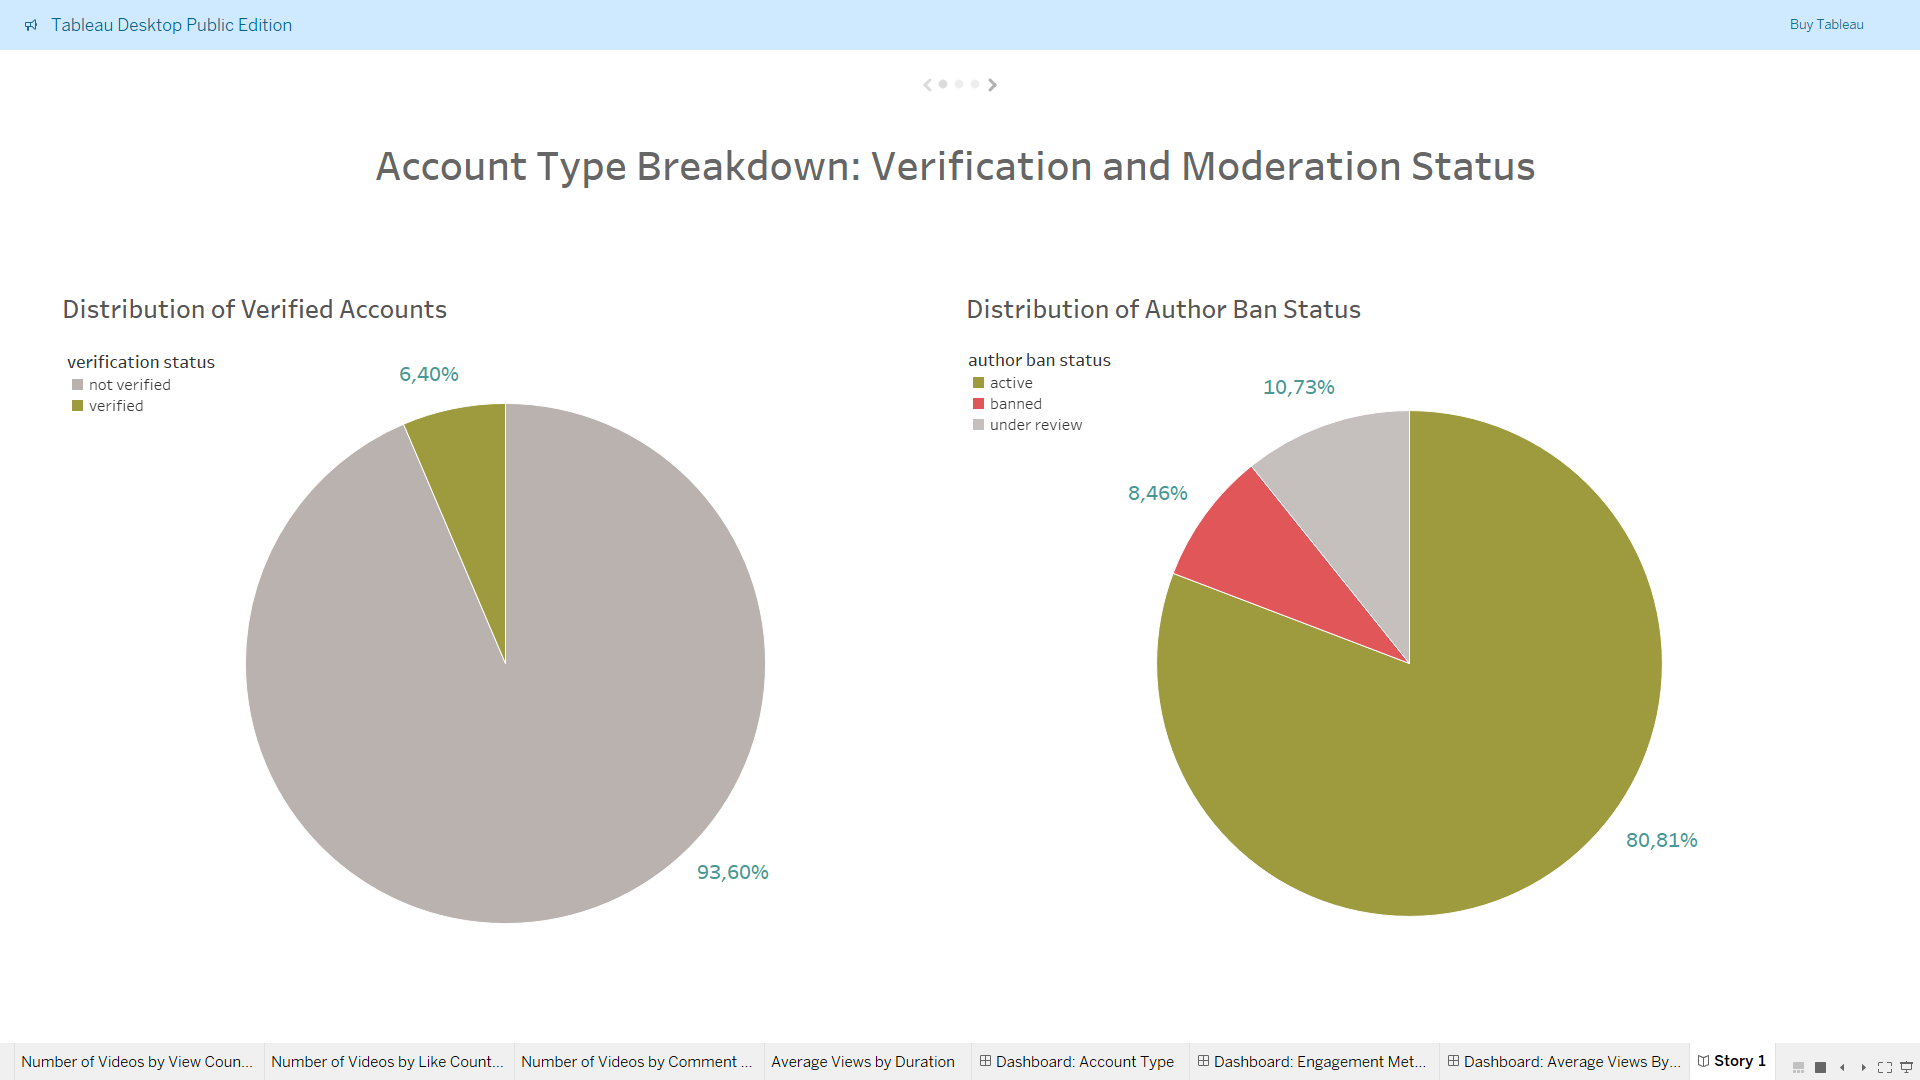

What the dashboard file says about the page in this screenshot:
{"tool":"tableau","page":{"name":"Dashboard: Account Type","canvas":[1000,1000],"units":"permille","ordinal":0},"visuals":[{"type":"text","box":[9.1,18.7,977.5,56.2]},{"type":"worksheet","title":"Distribution of Verified Accounts","mark":"Pie","box":[26.6,182.3,472.2,769]},{"type":"worksheet","title":"Distribution of Author Ban Status","mark":"Pie","box":[498.8,182.3,472.2,769]},{"type":"legend","title":"Distribution of Author Ban Status","param":"[federated.1hgu2s20h9yq7s1685ss2198u35l].[none:author_ban_status:nk]","box":[503.9,247.2,112.3,122.4]},{"type":"legend","title":"Distribution of Verified Accounts","param":"[federated.1hgu2s20h9yq7s1685ss2198u35l].[none:verified_status:nk]","box":[31,249.7,109.3,102.4]}]}

Visuals, with their boxes on the dashboard's canvas, which has no fixed pixel size, in thousandths of its width and height (x1, y1, x2, y2). These are canvas units, not pixel positions in the 1920x1080 screenshot, which may show the page scaled, cropped or inside an application window:
text: region(9, 19, 987, 75)
"Distribution of Verified Accounts" worksheet (Pie marks): region(27, 182, 499, 951)
"Distribution of Author Ban Status" worksheet (Pie marks): region(499, 182, 971, 951)
"Distribution of Author Ban Status" legend: region(504, 247, 616, 370)
"Distribution of Verified Accounts" legend: region(31, 250, 140, 352)
